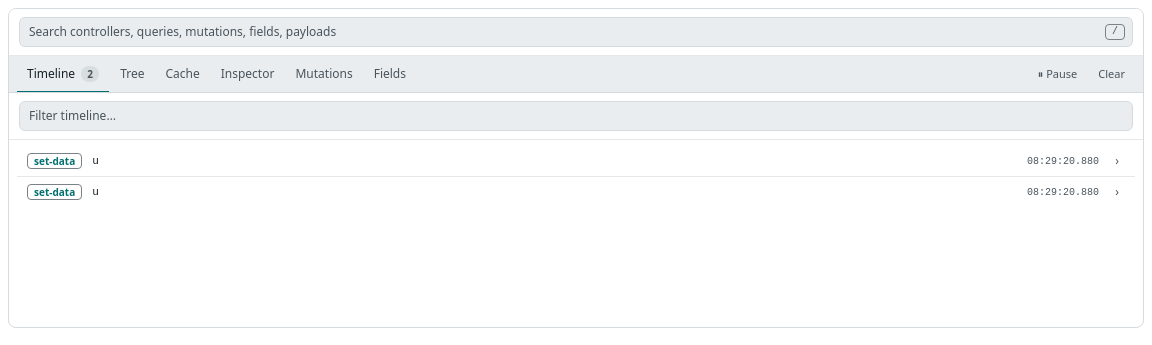
Test: Timeline cache:set-data detail › a committed optimistic layer shows its source like any other write
The width and height of the screenshot is (1152, 345).
Step 1. Click the 1st element showing "set-data u 08:29:20.880 ›" → (55, 161), box top-left (27, 152), bottom-right (1119, 169)
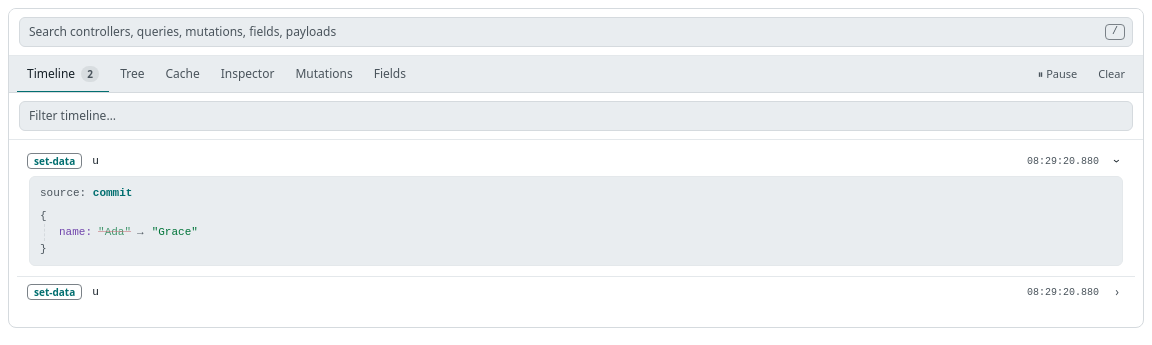
Now the element with class "olas-devtools-tl-source" reads "source: commit", box top-left (40, 187), bottom-right (132, 199)
Now the element with class "olas-devtools-diff-change" is shown, box top-left (98, 224), bottom-right (200, 240)
